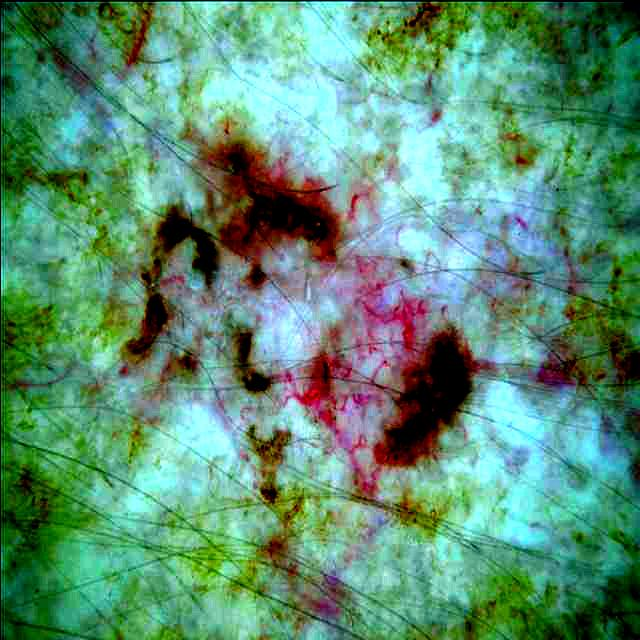AKIEC: (126, 117, 515, 503)
